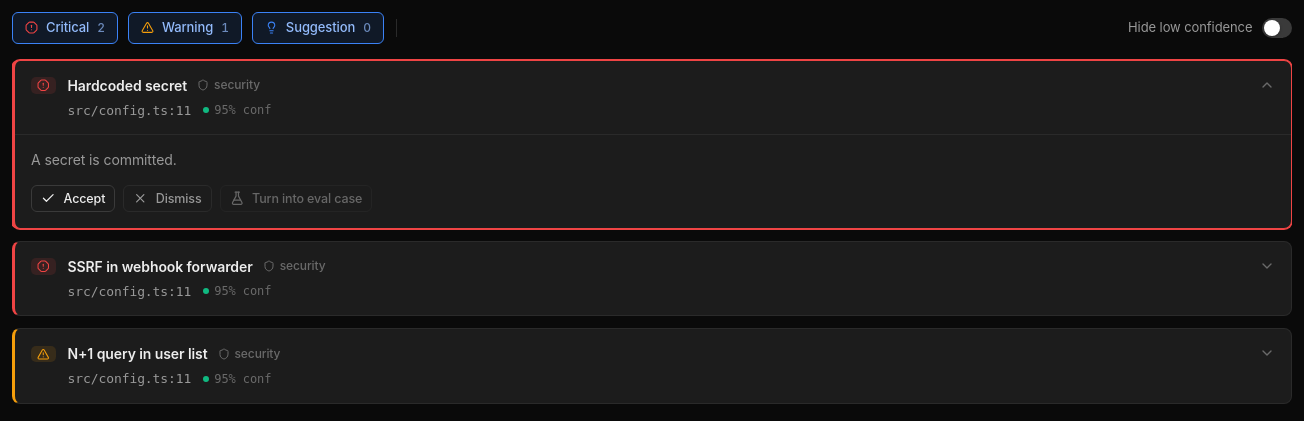
FindingsPanel severity counters › hides findings of a severity that is switched off
Expected: the text "N+1 query in user list" is shown, 68,343 -> 208,364
Click the button "Warning 1" at (185, 28), box 128,12 -> 242,44
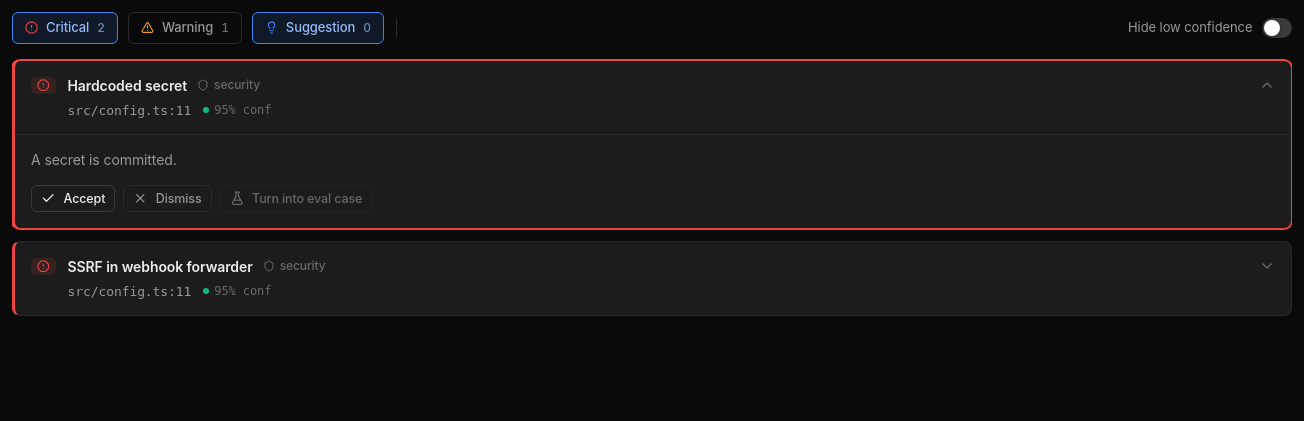
Expected: the text "Hardcoded secret" is shown, 68,74 -> 187,96
Result: the text "N+1 query in user list" is gone
